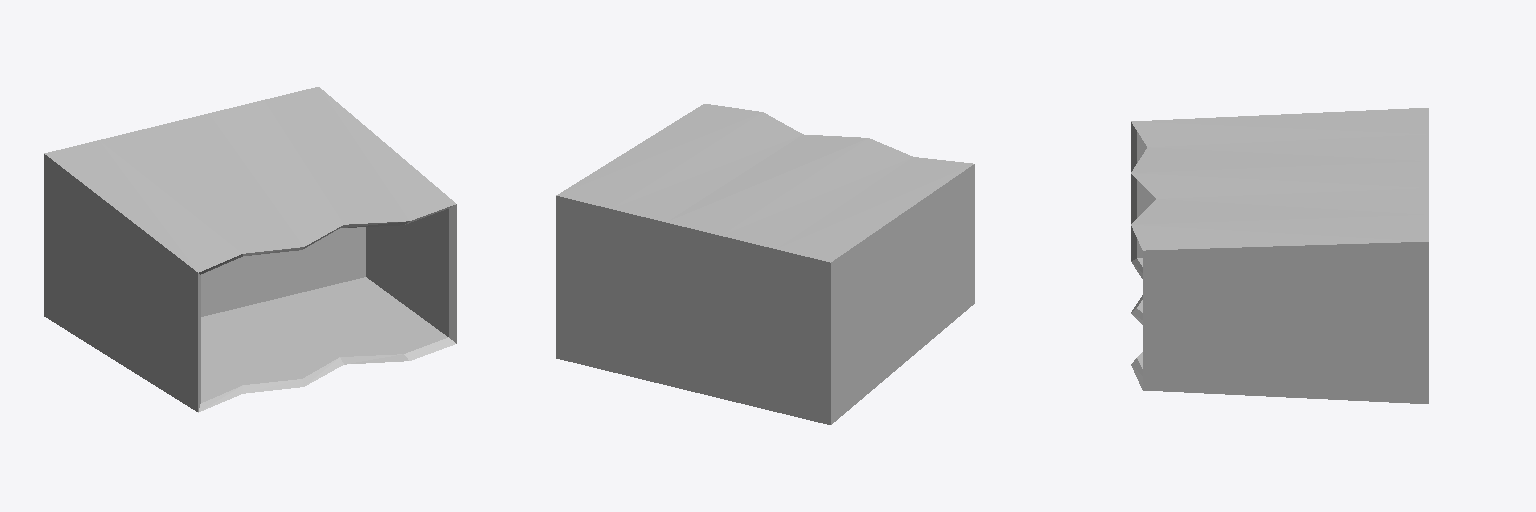
Rendered from bag.obj.
3 renders of one model, left to right at view 1: azimuth 30°, elevation 25°; view 2: azimuth 150°, elevation 25°; view 3: azimuth 270°, elevation 25°, orthographic.
Parts seen in each view (by area): view 1: Box006; view 2: Box006; view 3: Box006.
Part boxes in pixels (x1,y1,x2,y2): Box006: (44,87,456,412); Box006: (556,104,974,424); Box006: (1131,108,1428,403).
Size of the model in its own units: 1.83 by 1.04 by 1.72.